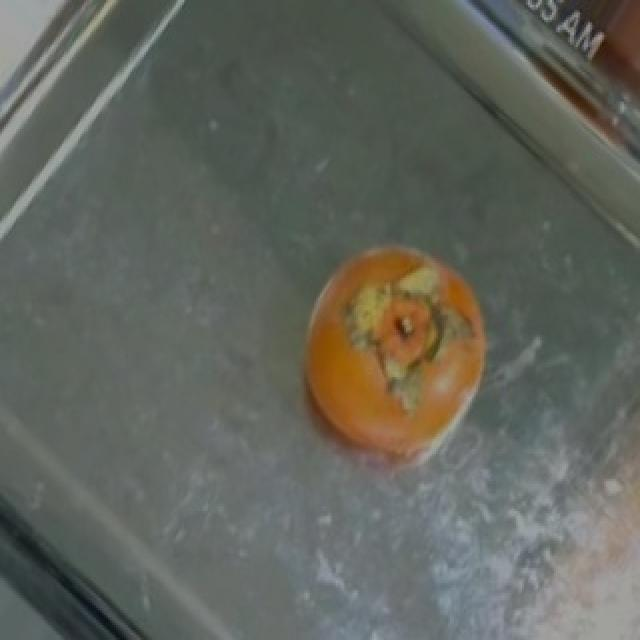Fruit: (278, 226, 506, 496), (582, 0, 640, 184)
